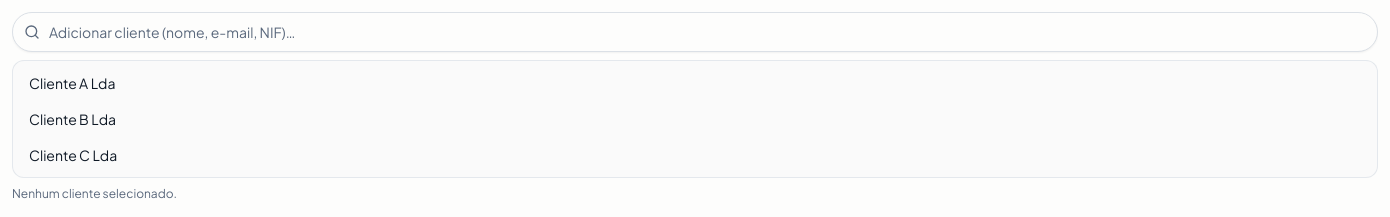
ClientMultiSelect › remove um cliente da seleção ao clicar no × do chip, mantendo os outros
Click the button "Cliente A Lda": (72, 83) top-left (17, 65), bottom-right (1373, 101)
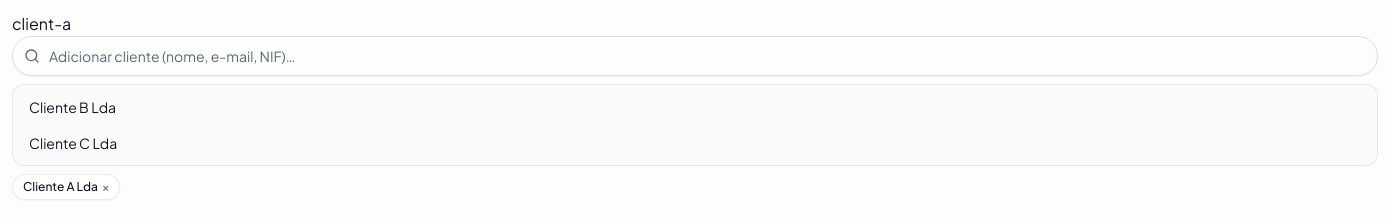
Click the button "Cliente B Lda": (72, 107) top-left (17, 89), bottom-right (1373, 125)
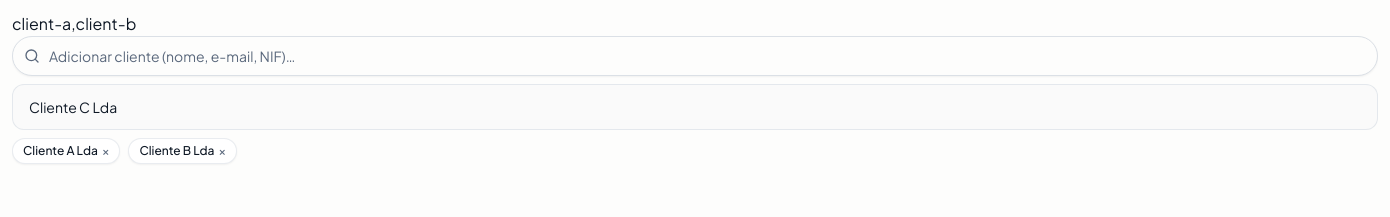
Expected: the text with test id "selected" reads "client-a,client-b", top-left (12, 13), bottom-right (136, 34)
Click the button named "Remover cliente": (106, 151) top-left (102, 143), bottom-right (109, 159)
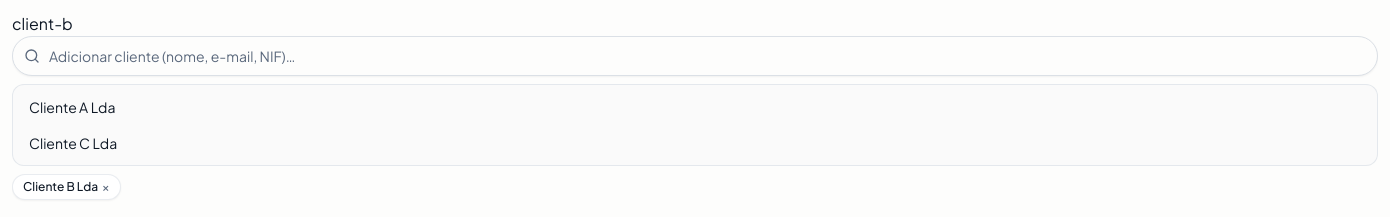
Expected: the text with test id "selected" reads "client-b", top-left (12, 13), bottom-right (73, 34)
